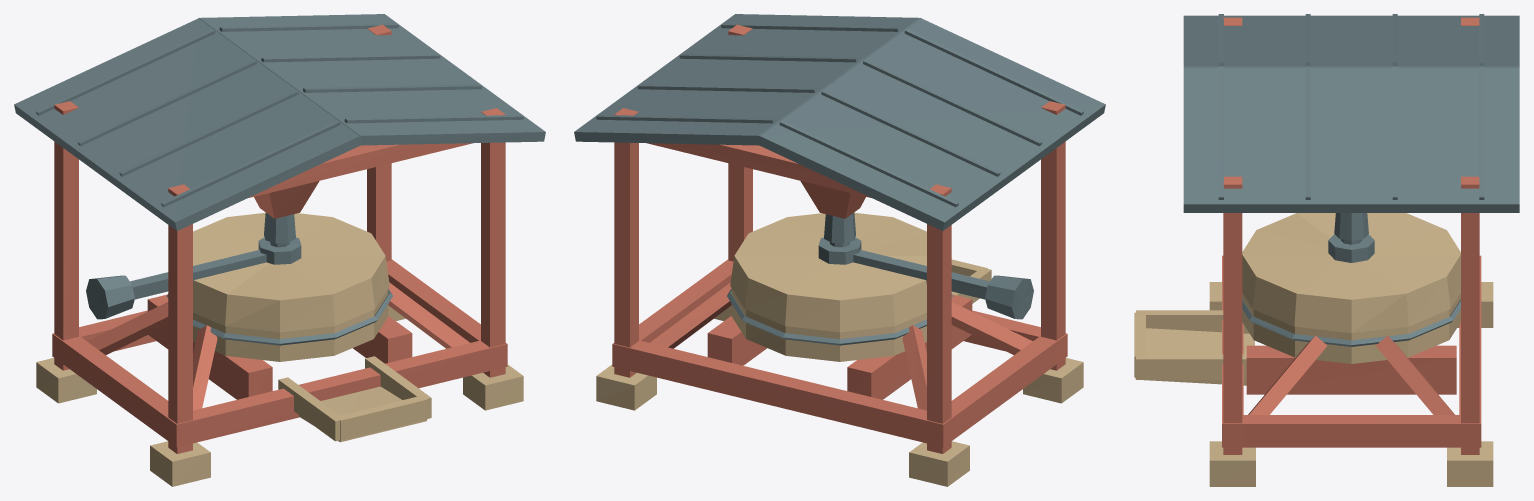
File: millstone.source.glb
3 renders of one model, left to right at view 1: azimuth 30°, elevation 25°; view 2: azimuth 150°, elevation 25°; view 3: azimuth 270°, elevation 25°, orthographic. The views are drawn at different scales.
Visible parts, largest first — view 1: millstone-left-roof-panel-mesh, millstone-right-roof-panel-mesh, millstone-upper-stone-disc-mesh, millstone-base-front-beam-mesh, millstone-canopy-post-4-mesh, millstone-canopy-post-3-mesh, millstone-canopy-post-1-mesh, millstone-base-left-beam-mesh, millstone-lower-stone-disc-mesh, millstone-front-roof-tie-mesh, millstone-left-mill-bearer-mesh, millstone-base-right-beam-mesh (+27 smaller); view 2: millstone-left-roof-panel-mesh, millstone-right-roof-panel-mesh, millstone-upper-stone-disc-mesh, millstone-base-rear-beam-mesh, millstone-canopy-post-2-mesh, millstone-canopy-post-1-mesh, millstone-canopy-post-3-mesh, millstone-lower-stone-disc-mesh, millstone-base-left-beam-mesh, millstone-rear-roof-tie-mesh, millstone-left-mill-bearer-mesh, millstone-base-right-beam-mesh (+23 smaller); view 3: millstone-right-roof-panel-mesh, millstone-upper-stone-disc-mesh, millstone-left-roof-panel-mesh, millstone-base-right-beam-mesh, millstone-right-mill-bearer-mesh, millstone-lower-stone-disc-mesh, millstone-canopy-post-4-mesh, millstone-canopy-post-2-mesh, millstone-flour-tray-right-lip-mesh, millstone-flour-tray-floor-mesh, millstone-stone-foot-2-mesh, millstone-stone-foot-4-mesh (+14 smaller).
Part boxes in pixels (x1,y1,x2,y2): millstone-left-roof-panel-mesh: (14, 18, 362, 230); millstone-right-roof-panel-mesh: (199, 14, 545, 145); millstone-upper-stone-disc-mesh: (193, 212, 389, 332); millstone-base-front-beam-mesh: (166, 340, 507, 447); millstone-canopy-post-4-mesh: (481, 108, 505, 377); millstone-canopy-post-3-mesh: (168, 184, 192, 453); millstone-canopy-post-1-mesh: (54, 101, 78, 370); millstone-base-left-beam-mesh: (52, 335, 176, 446); millstone-lower-stone-disc-mesh: (193, 289, 388, 361); millstone-front-roof-tie-mesh: (249, 143, 471, 197); millstone-left-mill-bearer-mesh: (147, 294, 272, 399); millstone-base-right-beam-mesh: (386, 260, 506, 346); millstone-left-roof-panel-mesh: (757, 18, 1105, 230); millstone-right-roof-panel-mesh: (574, 14, 920, 145); millstone-upper-stone-disc-mesh: (730, 212, 926, 332); millstone-base-rear-beam-mesh: (612, 340, 953, 447); millstone-canopy-post-2-mesh: (614, 108, 638, 377); millstone-canopy-post-1-mesh: (927, 184, 951, 453); millstone-canopy-post-3-mesh: (1041, 101, 1065, 370); millstone-lower-stone-disc-mesh: (731, 289, 926, 361); millstone-base-left-beam-mesh: (943, 336, 1057, 446); millstone-rear-roof-tie-mesh: (648, 143, 870, 197); millstone-left-mill-bearer-mesh: (847, 294, 972, 399); millstone-base-right-beam-mesh: (613, 260, 733, 346); millstone-right-roof-panel-mesh: (1183, 66, 1519, 212); millstone-upper-stone-disc-mesh: (1242, 213, 1460, 332); millstone-left-roof-panel-mesh: (1183, 15, 1519, 67); millstone-base-right-beam-mesh: (1222, 415, 1480, 447); millstone-right-mill-bearer-mesh: (1246, 345, 1456, 394); millstone-lower-stone-disc-mesh: (1242, 293, 1460, 363); millstone-canopy-post-4-mesh: (1223, 176, 1242, 454); millstone-canopy-post-2-mesh: (1461, 176, 1479, 454); millstone-flour-tray-right-lip-mesh: (1136, 354, 1246, 379); millstone-flour-tray-floor-mesh: (1135, 328, 1254, 385); millstone-stone-foot-2-mesh: (1447, 441, 1493, 486); millstone-stone-foot-4-mesh: (1209, 441, 1255, 486).
Bounding box in the file's own units: 3.08 × 2.54 × 2.66.
